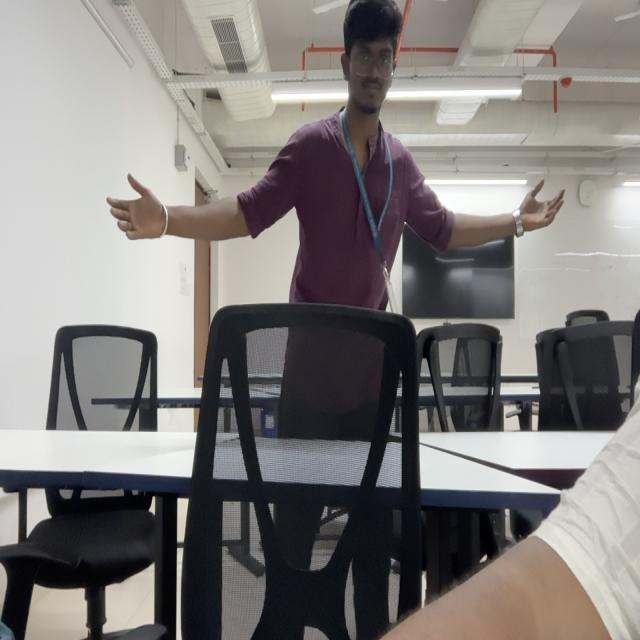ravindra: (338, 0, 404, 119)
